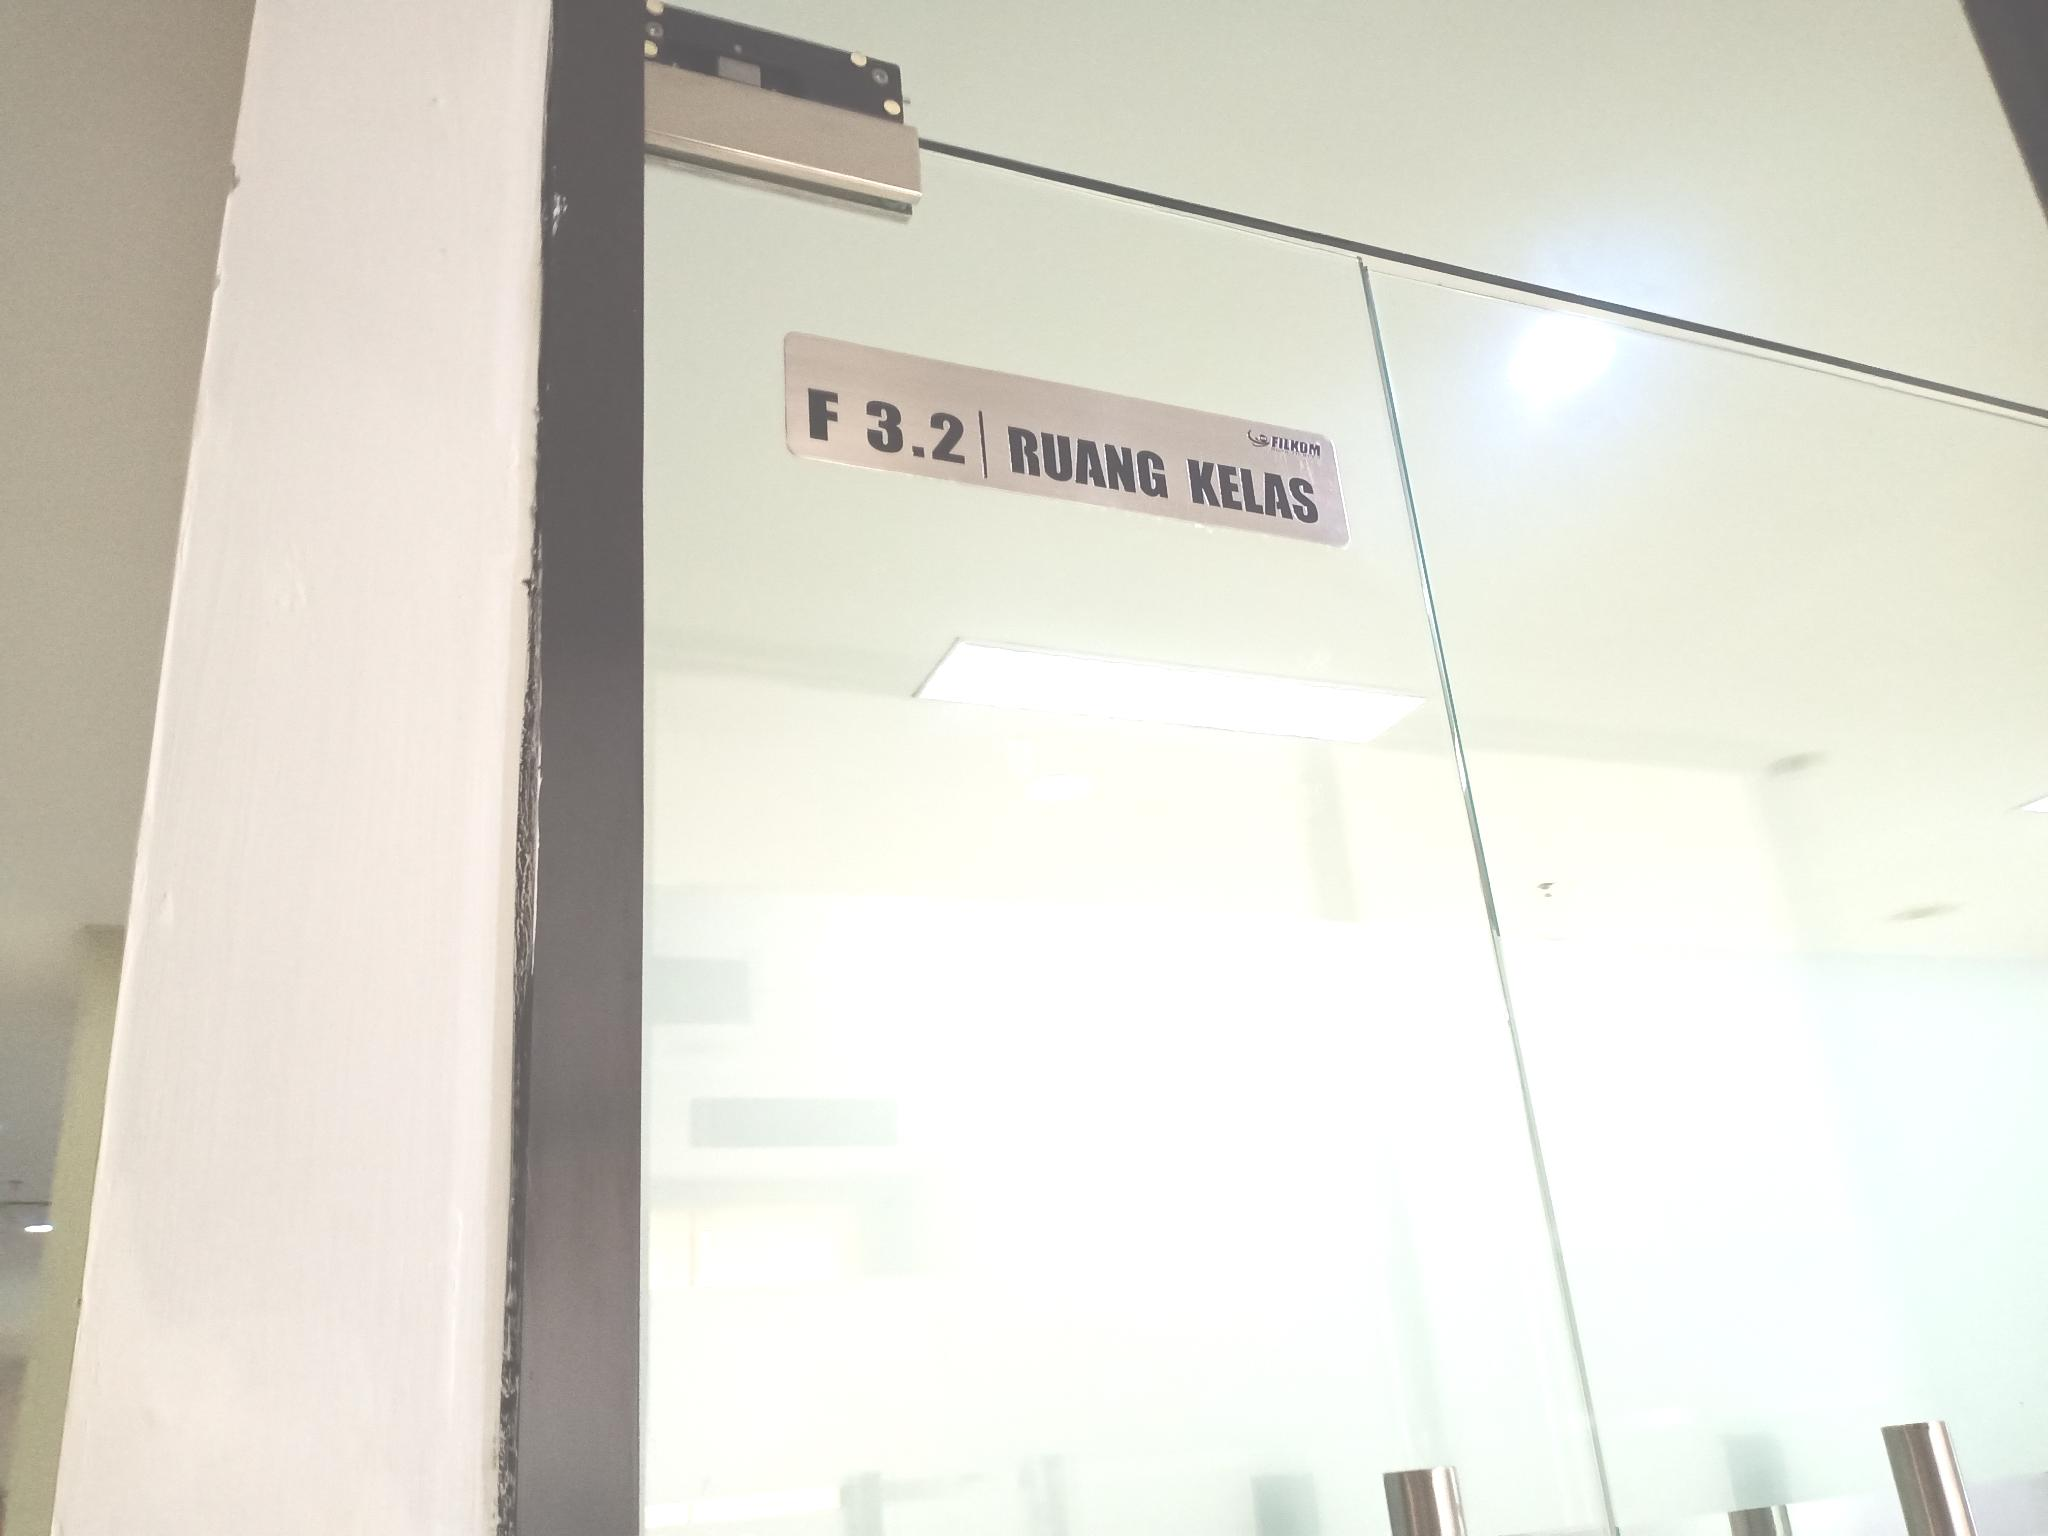plate: (785, 331, 1353, 550)
